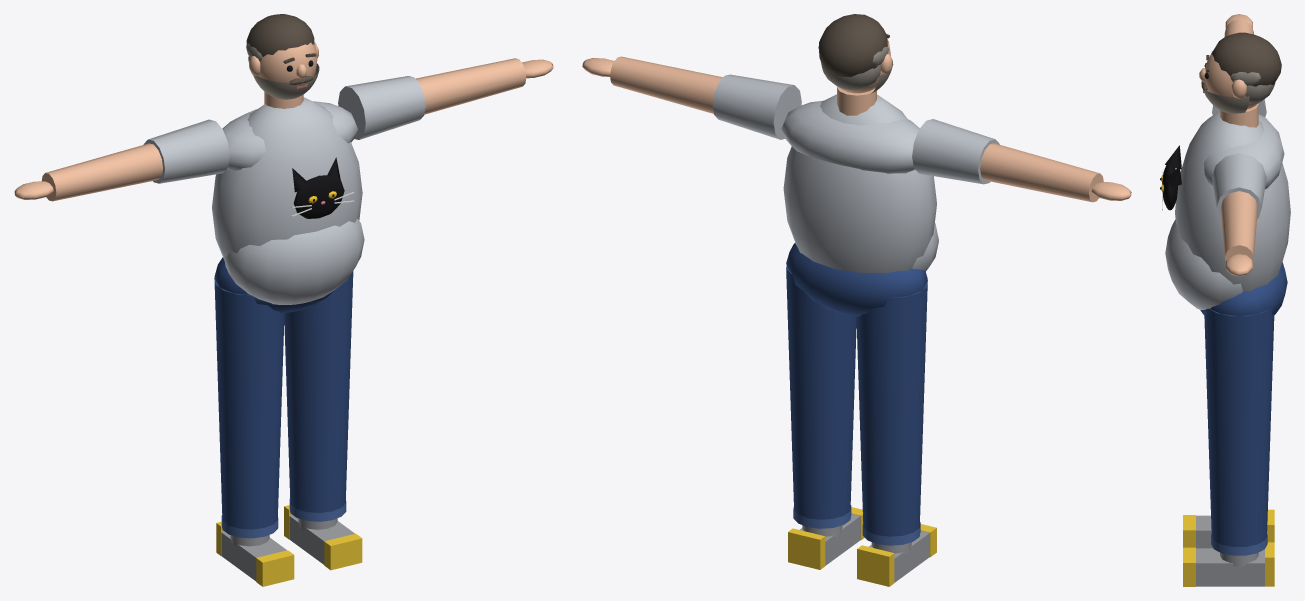
The model's file is dave.obj.
3 renders of one model, left to right at view 1: azimuth 30°, elevation 25°; view 2: azimuth 150°, elevation 25°; view 3: azimuth 270°, elevation 25°, orthographic. The views are drawn at different scales.
Parts seen in each view (by area): view 1: dave; view 2: dave; view 3: dave.
Part boxes in pixels (<box>): dave: <box>14,14,553,586</box>; dave: <box>582,14,1131,586</box>; dave: <box>1160,14,1290,586</box>.
Size of the model in its own units: 1.9 by 1.81 by 0.4061.
